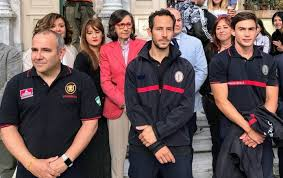person: (6, 23, 84, 97), (136, 8, 188, 81), (217, 14, 270, 73), (103, 15, 142, 59)
